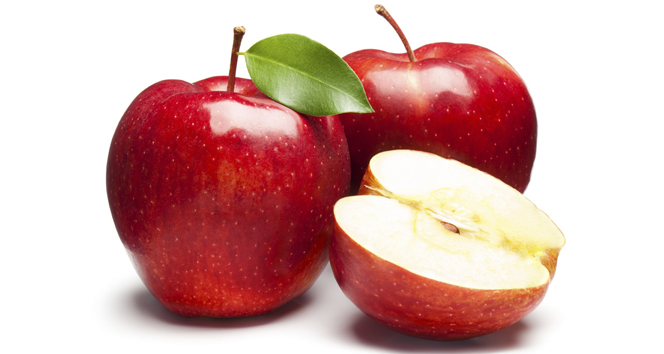apple: (91, 2, 598, 351)
